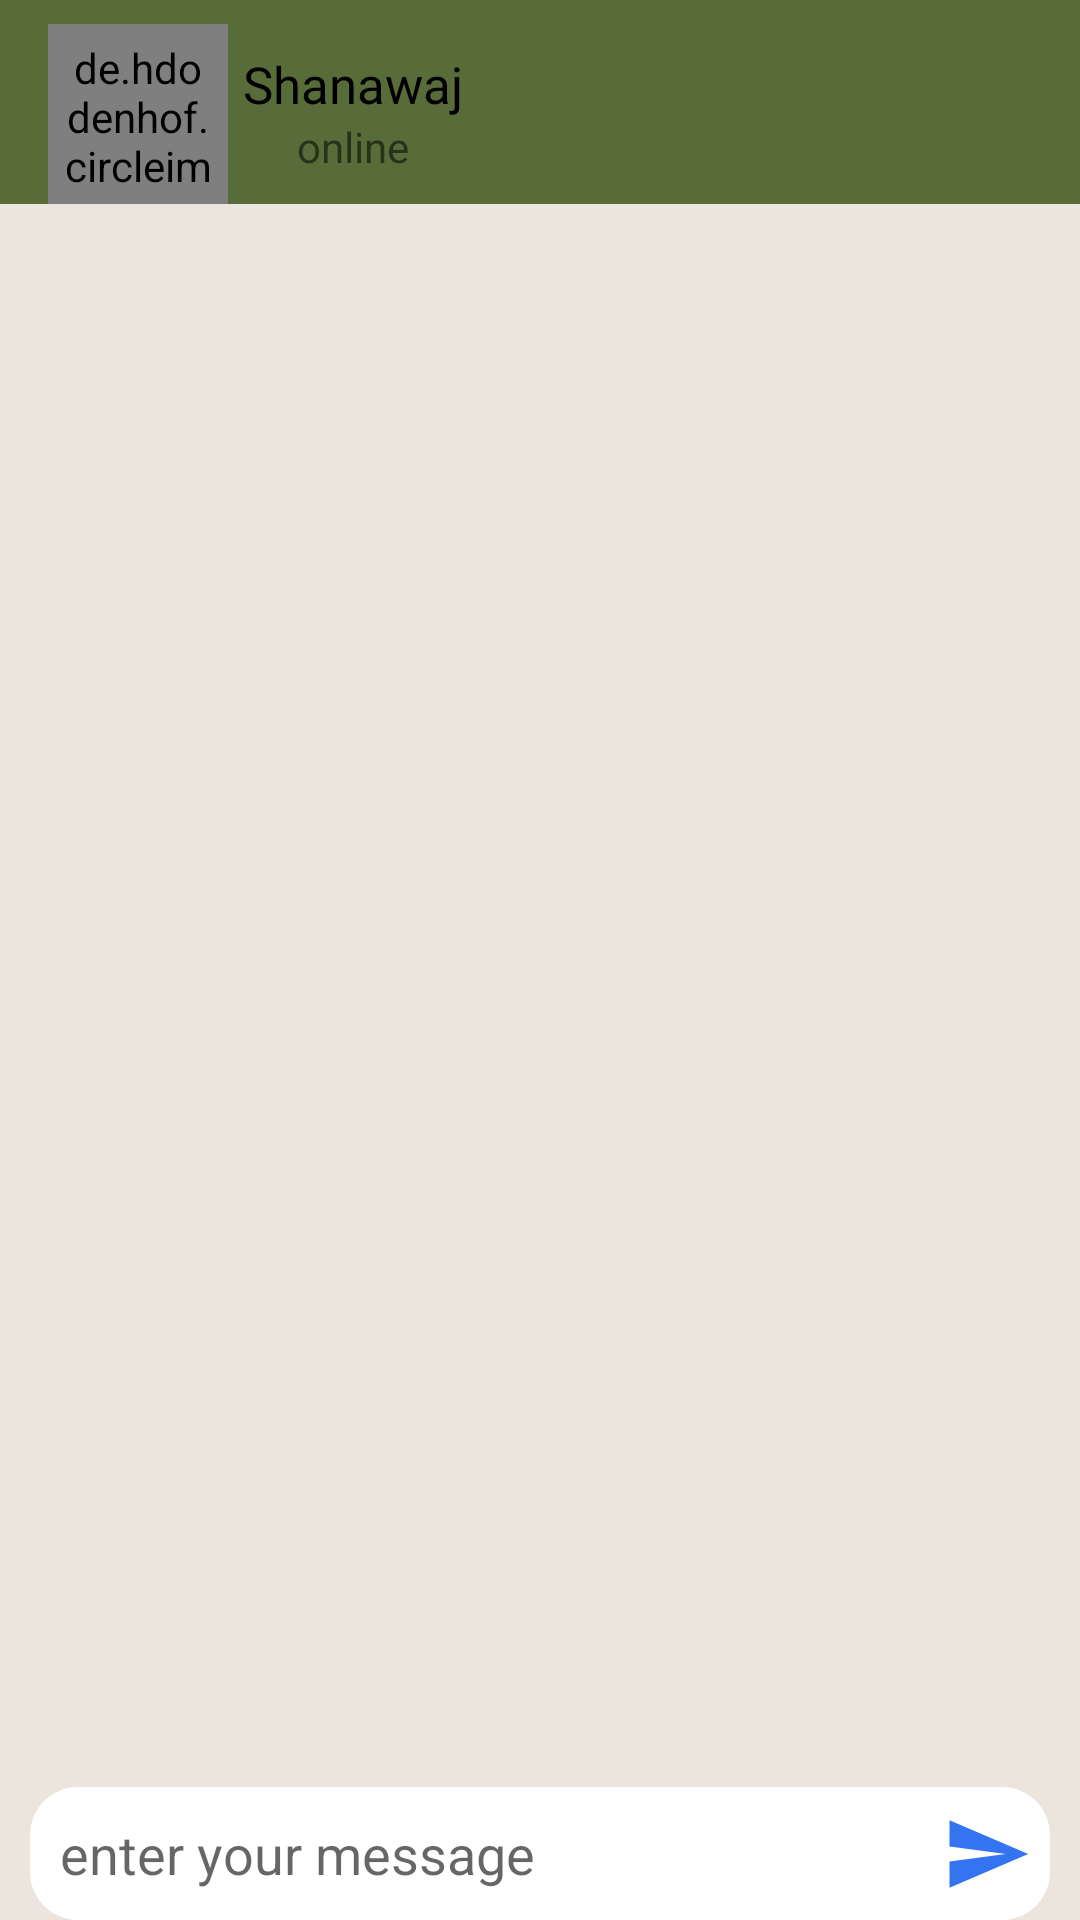

Icon click points for this 1080px×1920px phone screenshot, format (x,y):
send: (988,1854)
